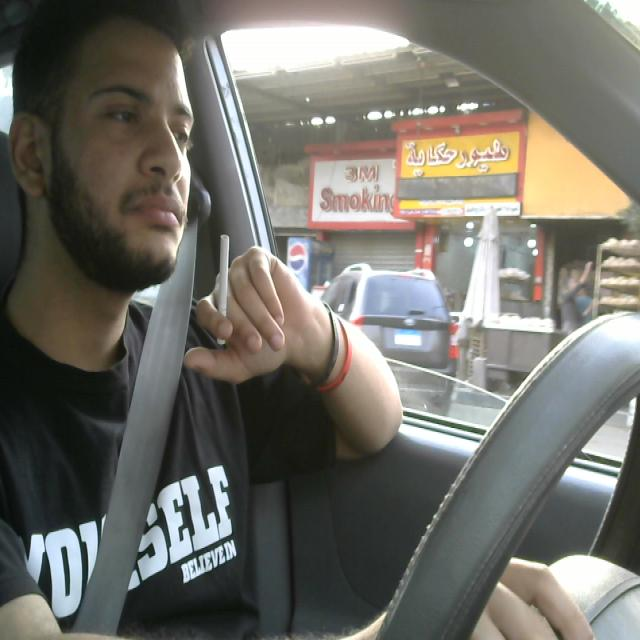smoking: (214, 234, 233, 349)
